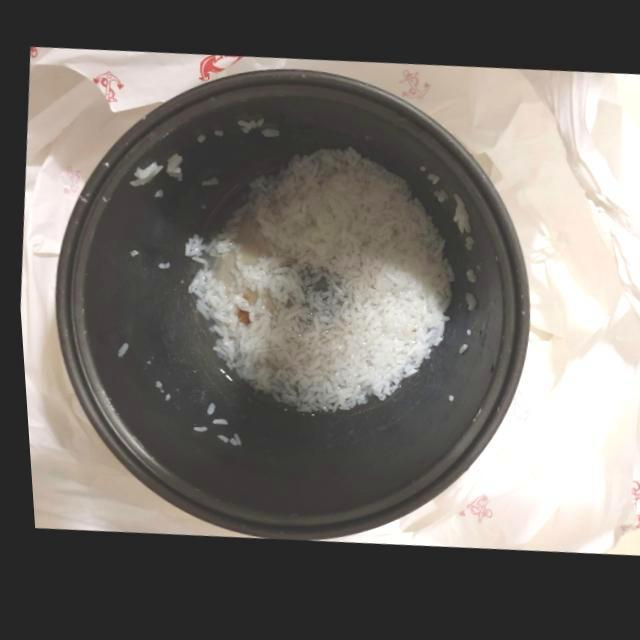left_over_food: (182, 152, 447, 417)
